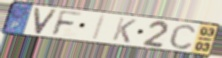2: (142, 20, 171, 49)
C: (168, 23, 198, 51)
F: (50, 9, 85, 37)
I: (90, 14, 108, 42)
K: (110, 17, 138, 44)
V: (33, 7, 59, 36)
